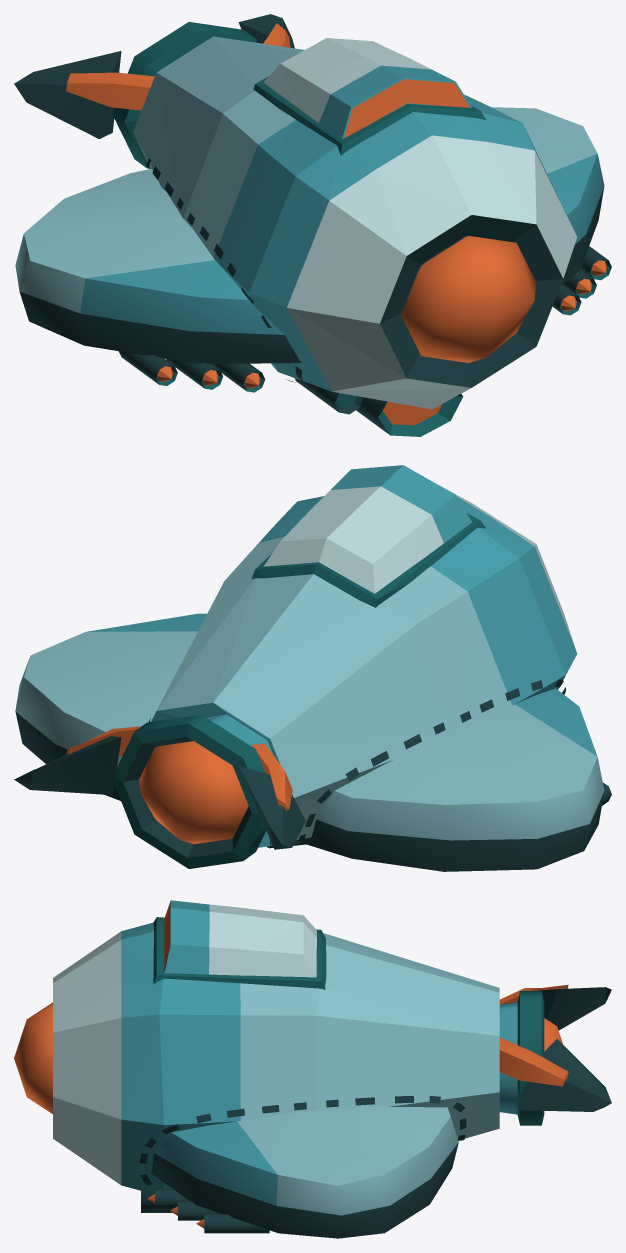
3 views of the same model, one above another, from view 1: azimuth 30°, elevation 25°; view 2: azimuth 150°, elevation 25°; view 3: azimuth 270°, elevation 25° (orthographic). The views are drawn at different scales.
Visible parts, largest first — view 1: SH_001; view 2: SH_001; view 3: SH_001.
Part boxes in pixels (x1,y1,x2,y2): SH_001: (14,14,611,436); SH_001: (14,465,611,871); SH_001: (14,900,611,1238).
Bounding box in the file's own units: 202 × 117 × 212.
Materials: 1 (1 with a texture image).
